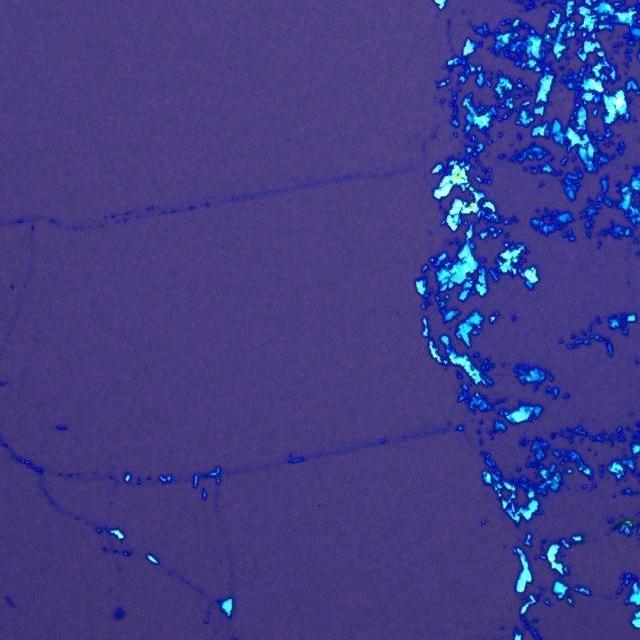monolayer-eWW4: (113, 606, 126, 621)
